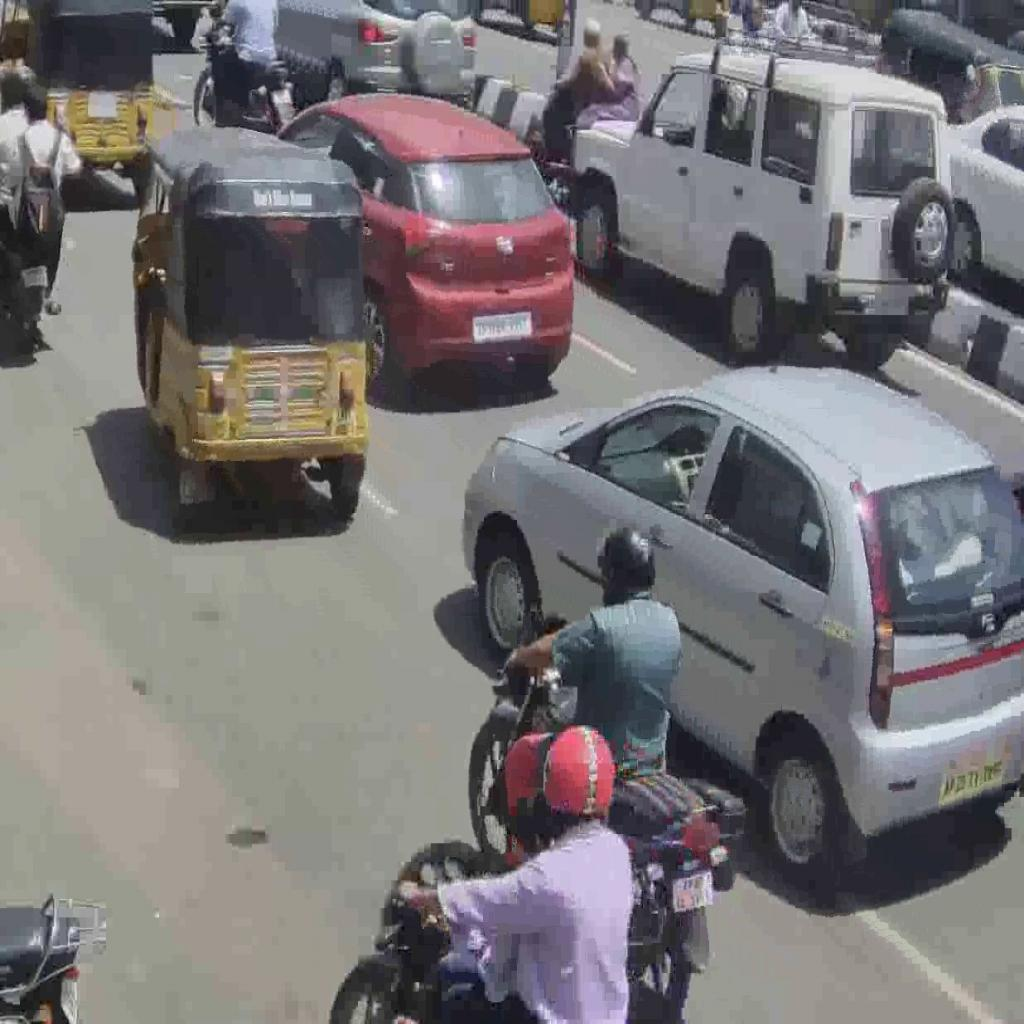helmet: (463, 614, 736, 1004), (326, 848, 646, 1024)
